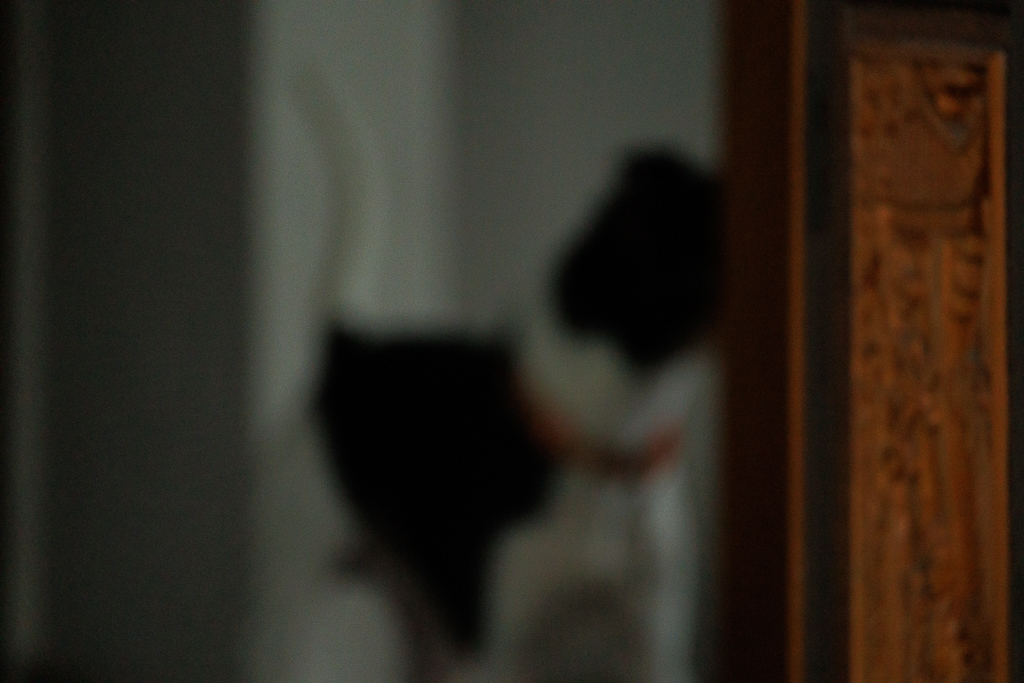Dog: (290, 54, 736, 683)
